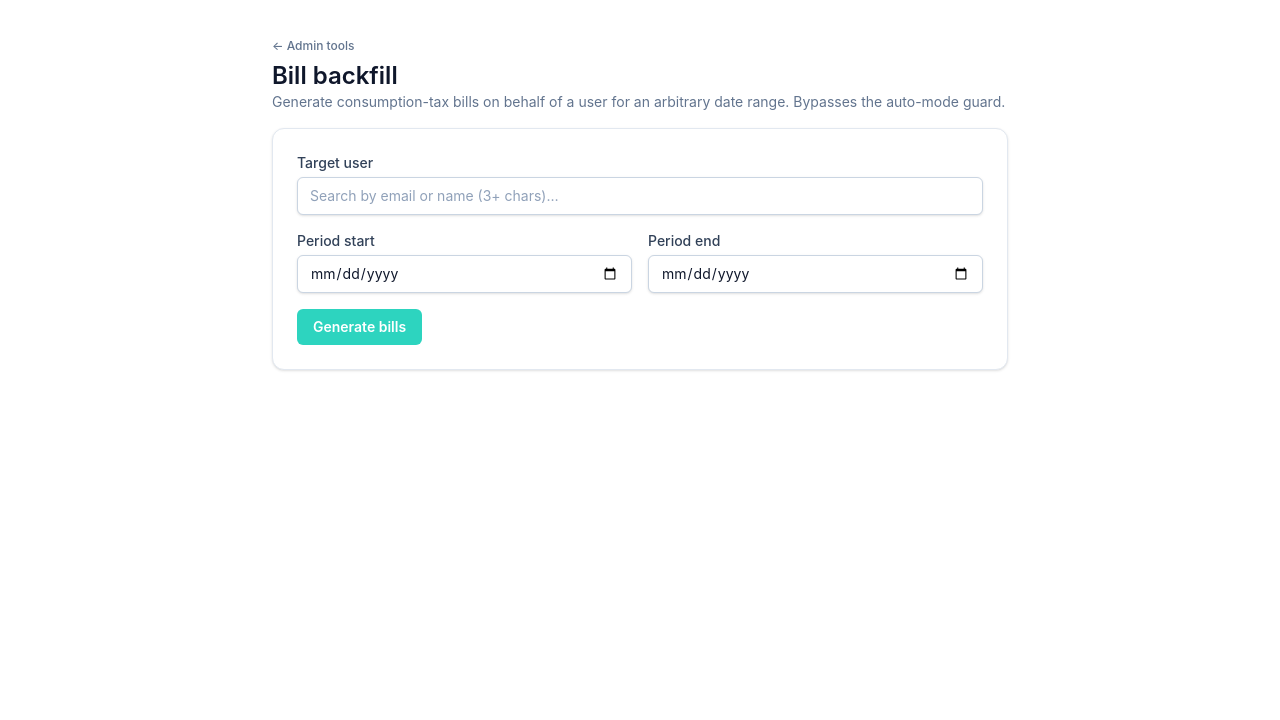
AdminBillBackfillPage › confirms + submits a valid backfill and appends to the session log
Pick the user.
Type "jane" into the search field named "search target user by email or name". click: (640, 196)
box: [297, 177, 983, 215]
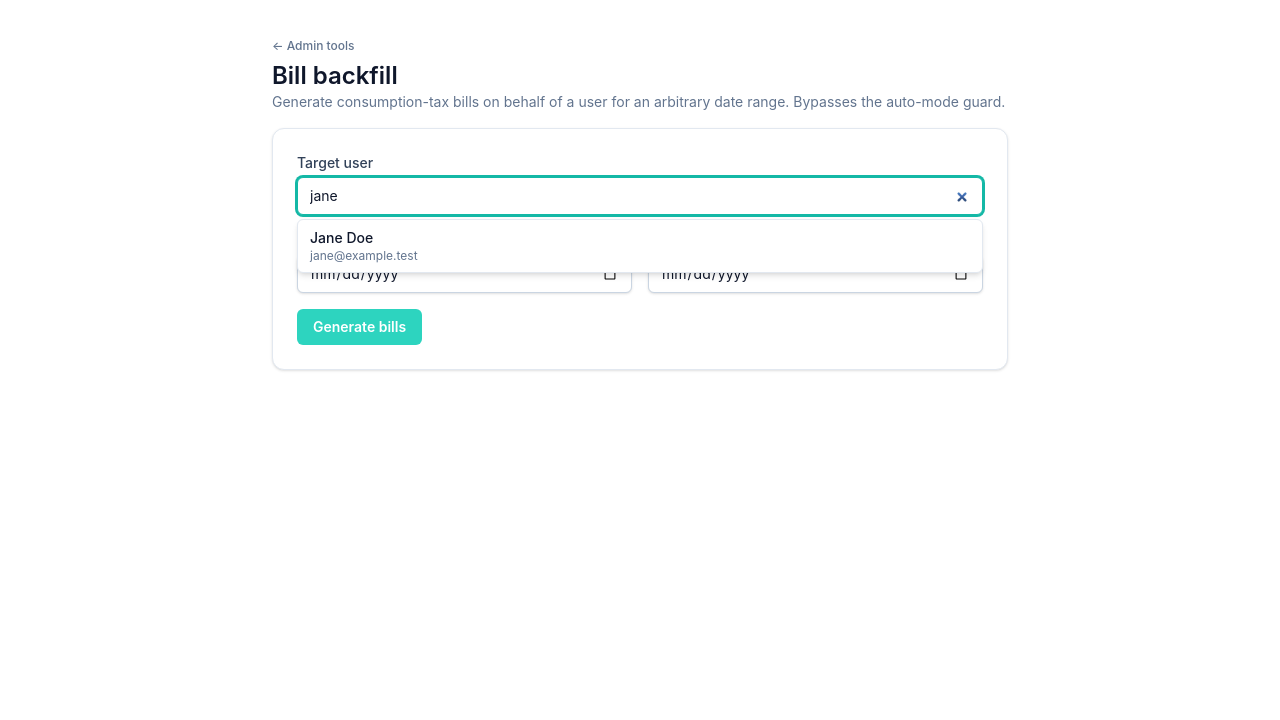
Click the option "Jane Doe jane@example.test". click: (342, 238)
box: [298, 220, 982, 272]
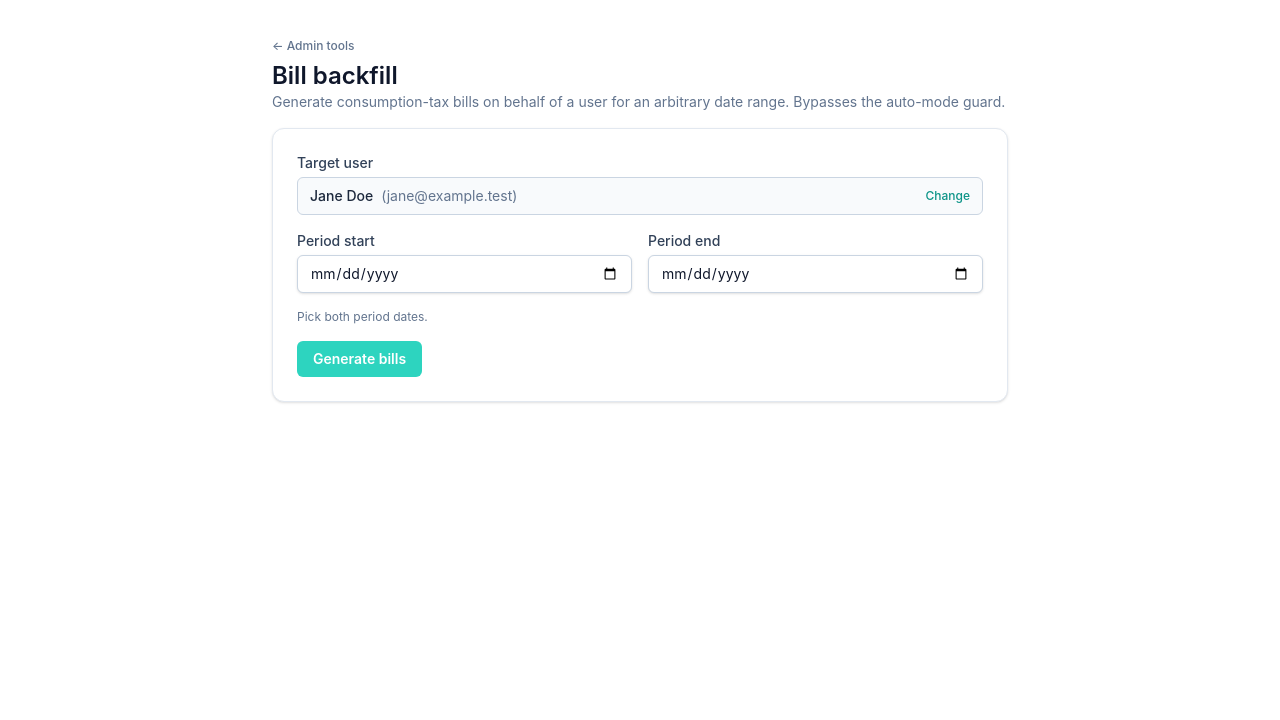
Fill a recent, valid date range.
Type "2026-04-01" into the date field labelled "Period start". click: (464, 274)
box: [297, 255, 632, 293]
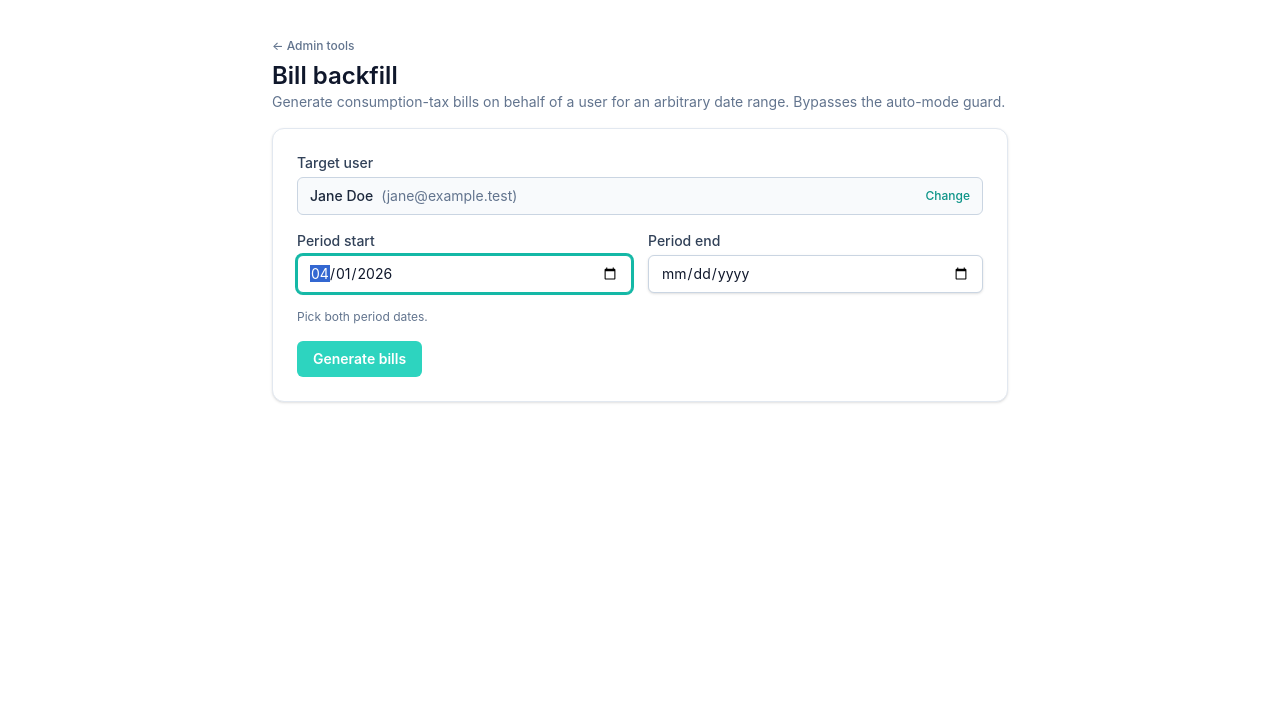
Type "2026-04-30" into the date field labelled "Period end". click: (816, 274)
box: [648, 255, 983, 293]
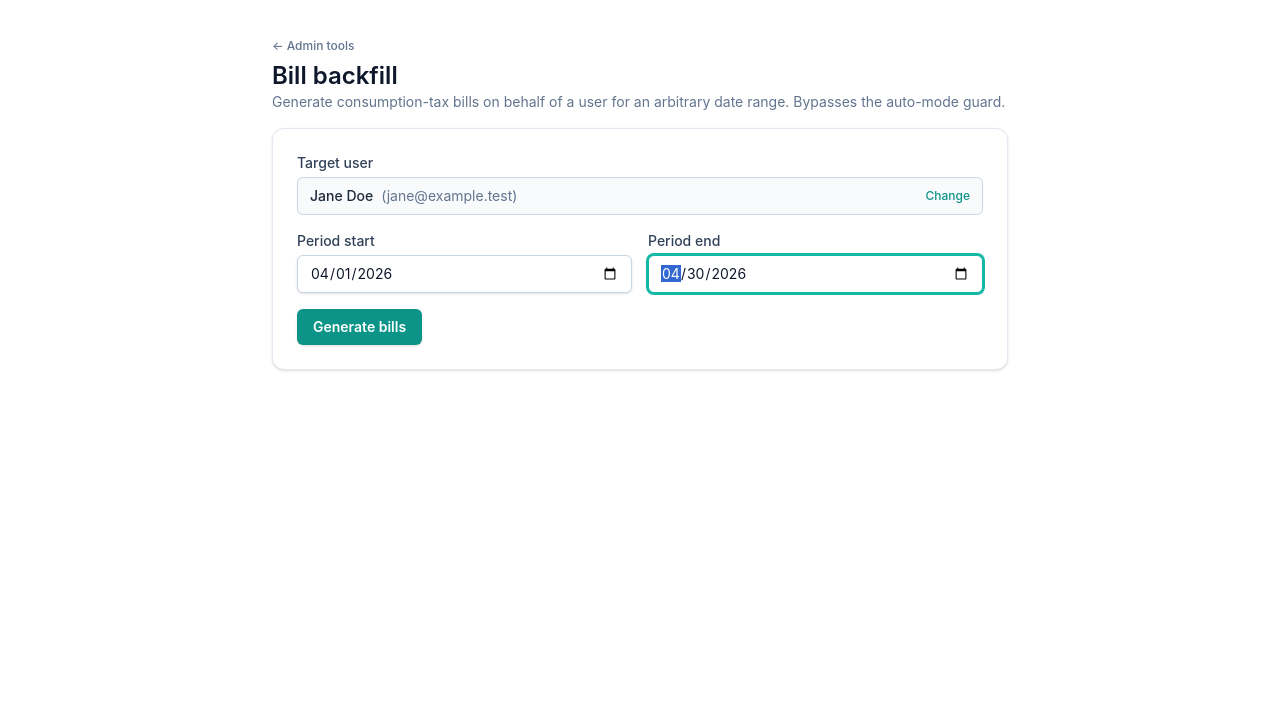
Click the button "Generate bills". click: (360, 327)
box: [297, 309, 422, 345]
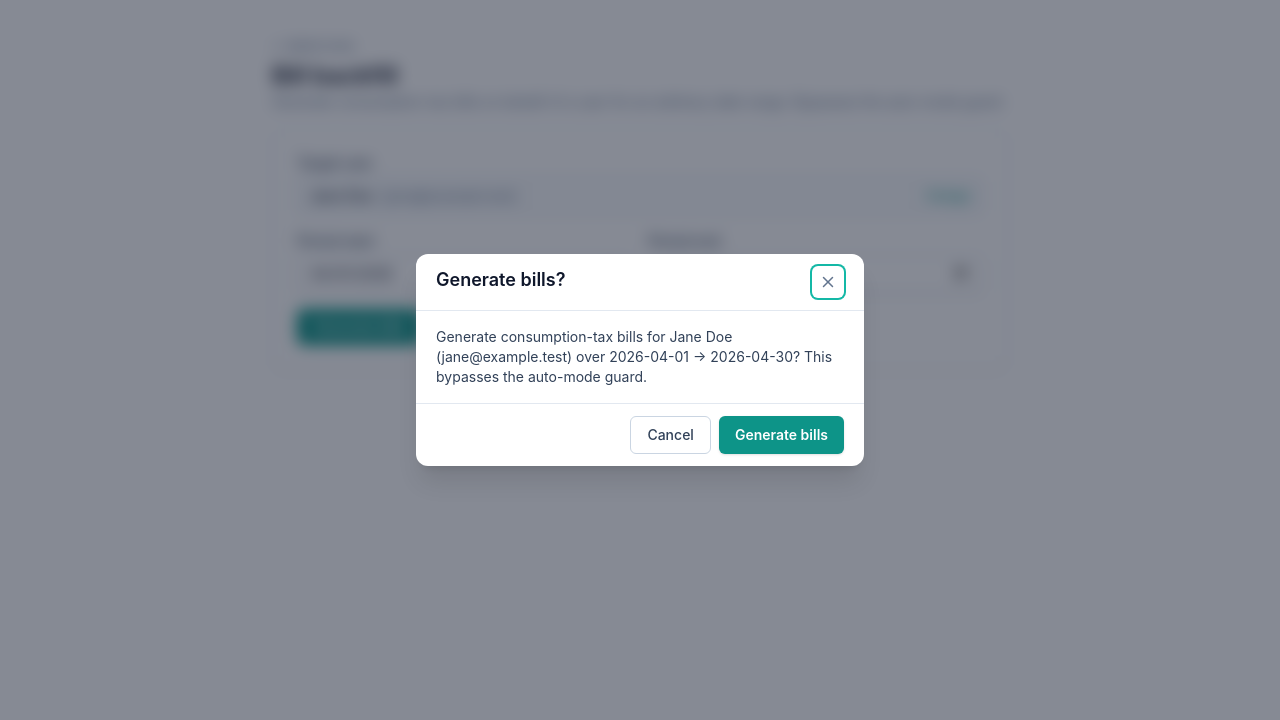
Result: the text "Generate consumption-tax bills for Jane Doe" is shown at [436, 328, 832, 385]
Click the button "Generate bills". click: (781, 435)
box: [719, 416, 844, 454]
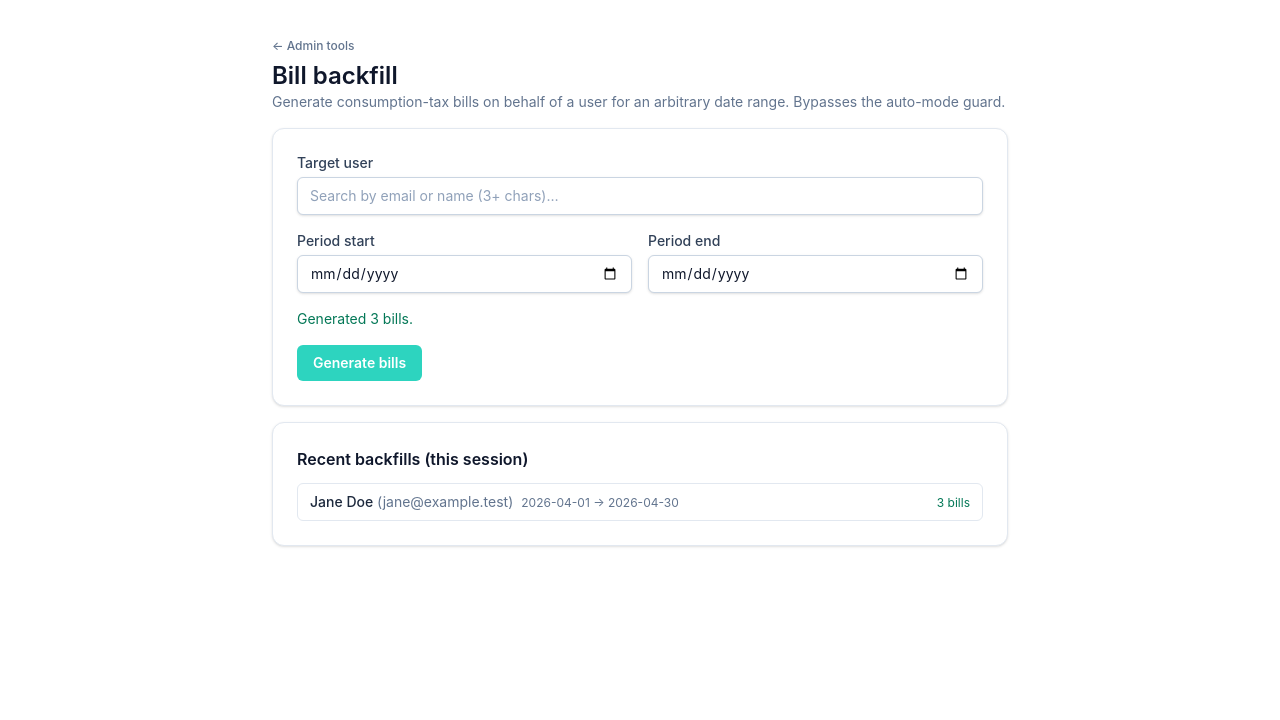
Result: the text "Generated 3 bills." is shown at [297, 310, 413, 327]
Result: the heading "Recent backfills (this session)" is shown at [297, 449, 528, 469]
